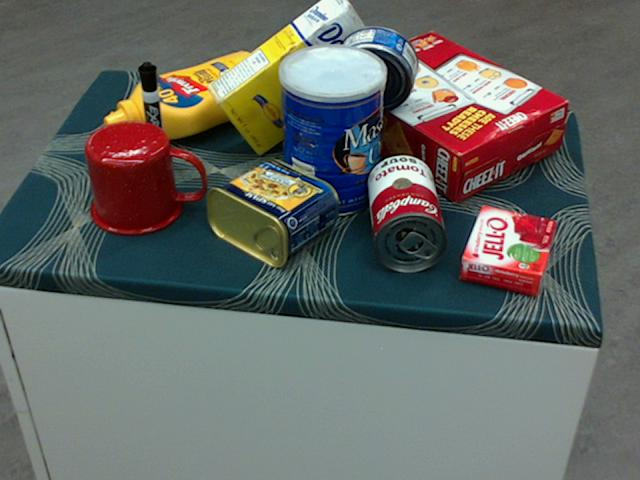cracker_box: (326, 30, 565, 203)
gelatin_box: (460, 205, 554, 293)
large_marker: (136, 62, 168, 169)
master_chef_can: (278, 45, 385, 218)
mug: (85, 119, 205, 235)
mustard_bottle: (102, 51, 275, 139)
potted_meat_can: (204, 158, 337, 267)
sugar_box: (204, 0, 386, 157)
tomato_soup_can: (368, 154, 445, 271)
tuna_fish_can: (333, 24, 418, 110)
